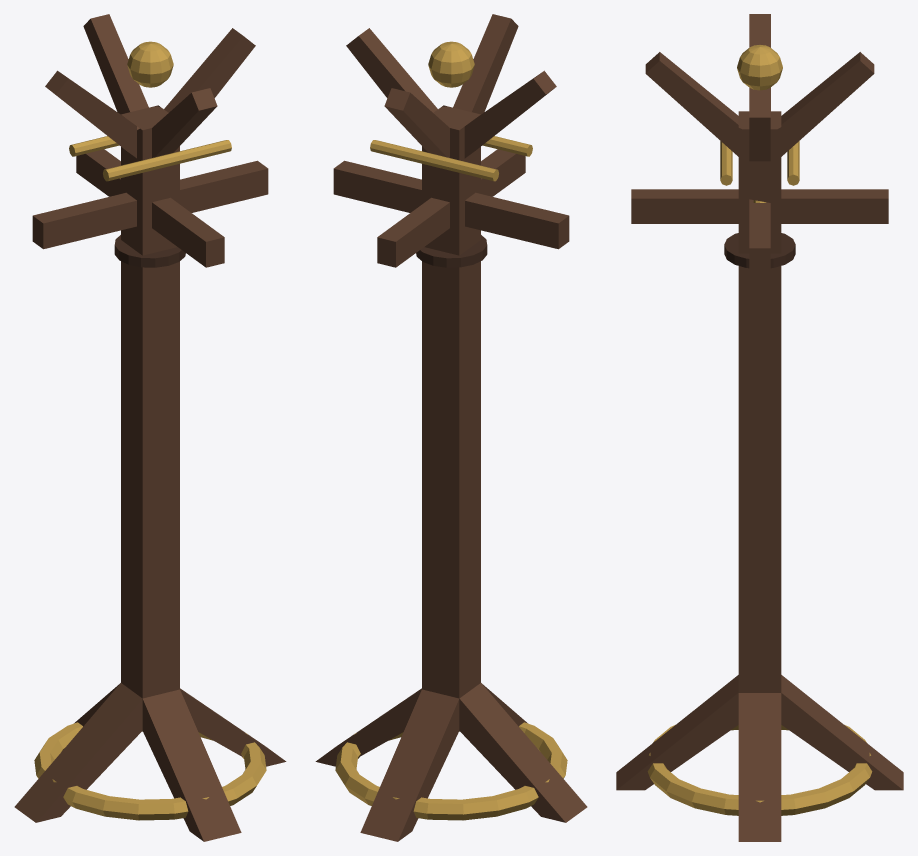
Rendered from coatRackStanding.glb.
3 views of the same model, side by side, from view 1: azimuth 30°, elevation 25°; view 2: azimuth 150°, elevation 25°; view 3: azimuth 270°, elevation 25° (orthographic).
Visible parts, largest first — view 1: coatRackStanding(Clone); view 2: coatRackStanding(Clone); view 3: coatRackStanding(Clone).
Part boxes in pixels (<box>): coatRackStanding(Clone): <box>14,14,286,841</box>; coatRackStanding(Clone): <box>315,14,587,841</box>; coatRackStanding(Clone): <box>616,14,903,841</box>.
Bounding box in the file's own units: 0.2728 × 0.77 × 0.2728.
